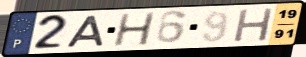2: (29, 13, 73, 53)
6: (155, 9, 190, 48)
9: (201, 10, 233, 44)
A: (64, 15, 107, 49)
H: (111, 11, 157, 48), (232, 7, 276, 44)
